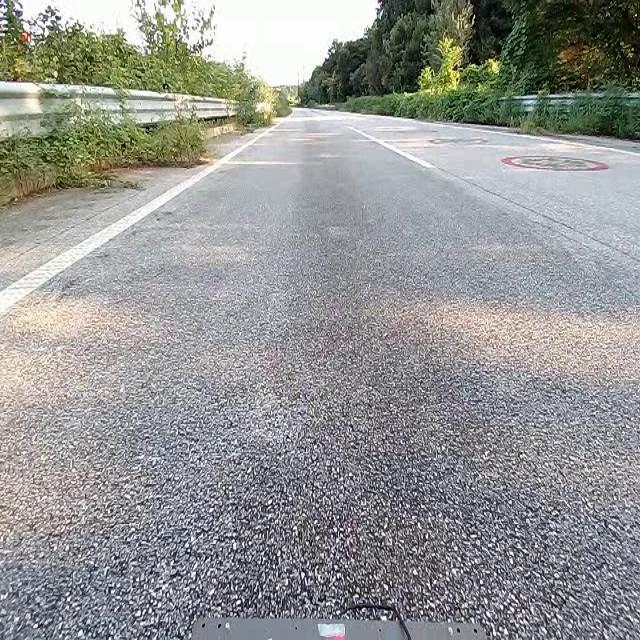Lane: (0, 127, 270, 312), (0, 140, 254, 319), (327, 122, 458, 177), (351, 126, 440, 171)
